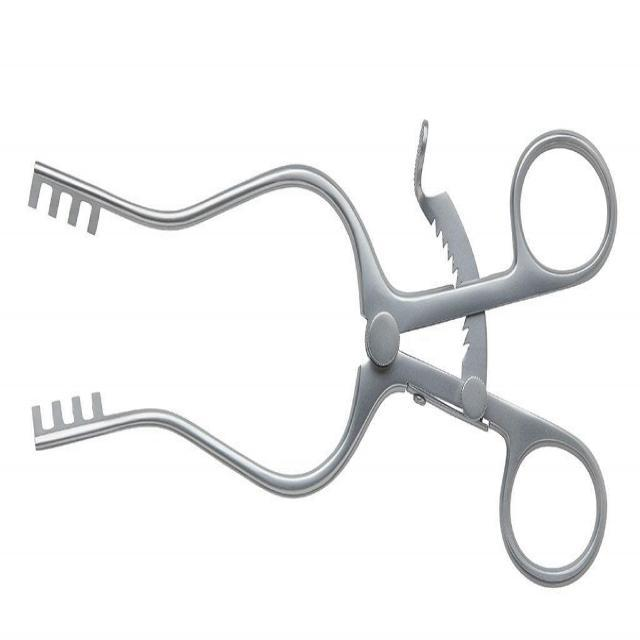Weitlaner: (29, 96, 622, 592)
